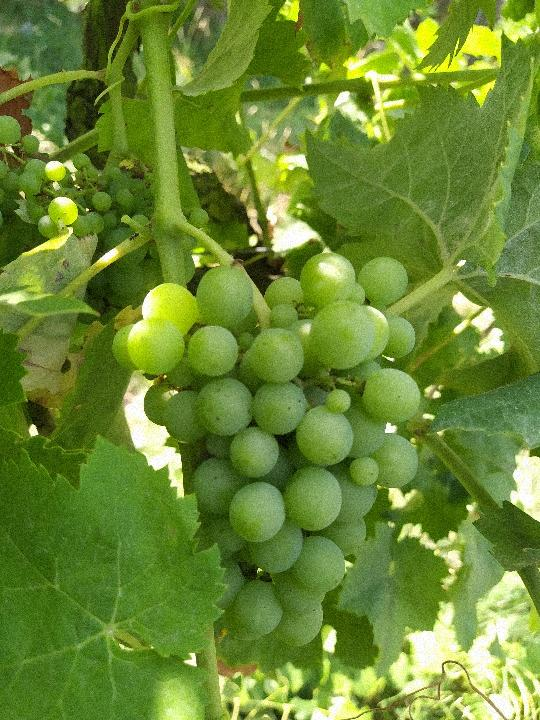grape: (110, 251, 421, 650)
